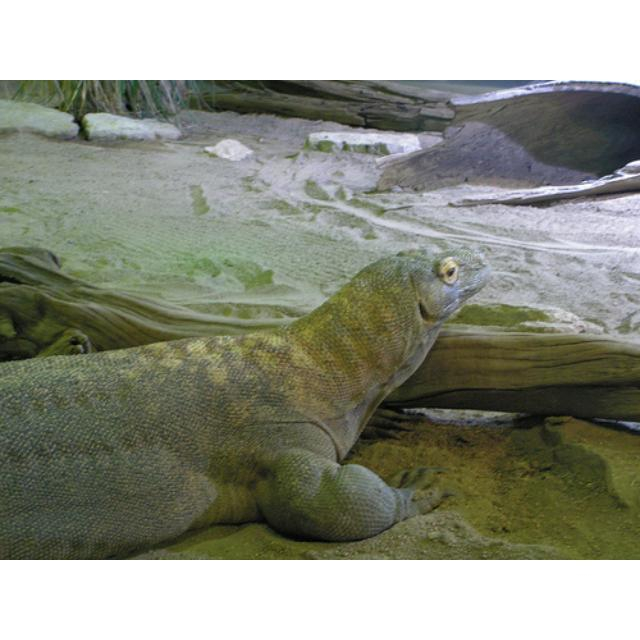KomodoDragon: (0, 245, 494, 557)
